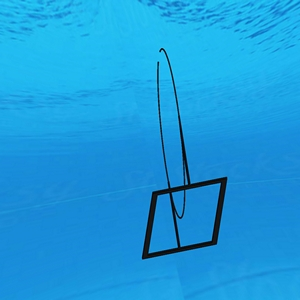circle: (136, 46, 234, 266)
